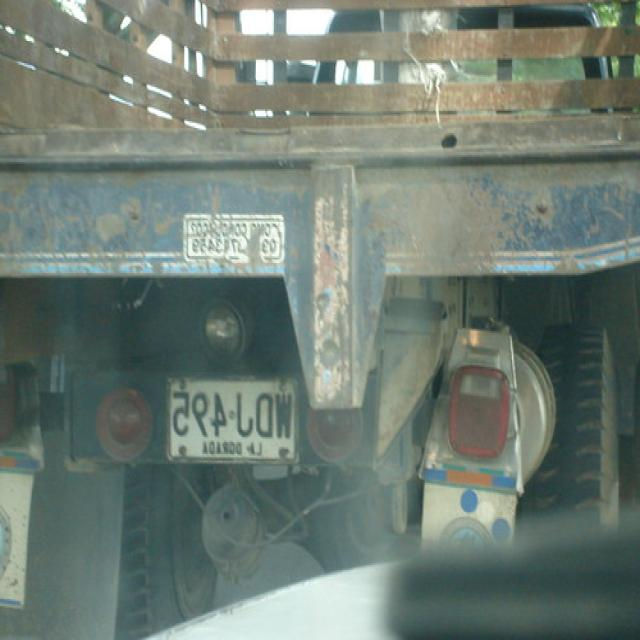placas: (171, 388, 294, 436)
